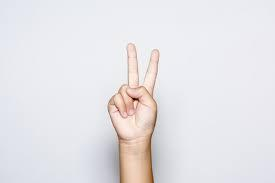Peace: (107, 39, 168, 155)
